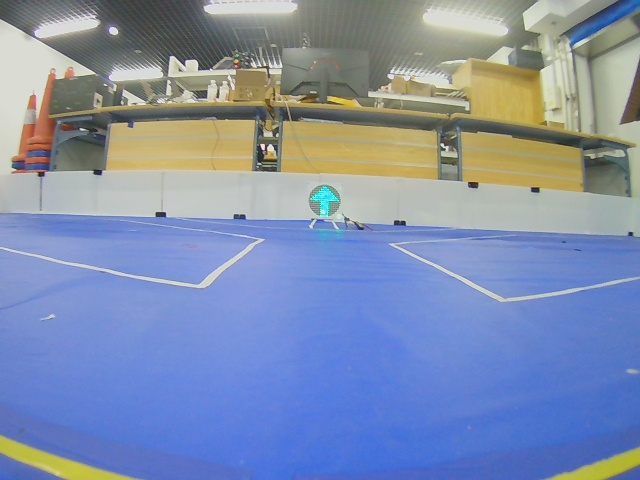straight_green: (308, 185, 341, 218)
